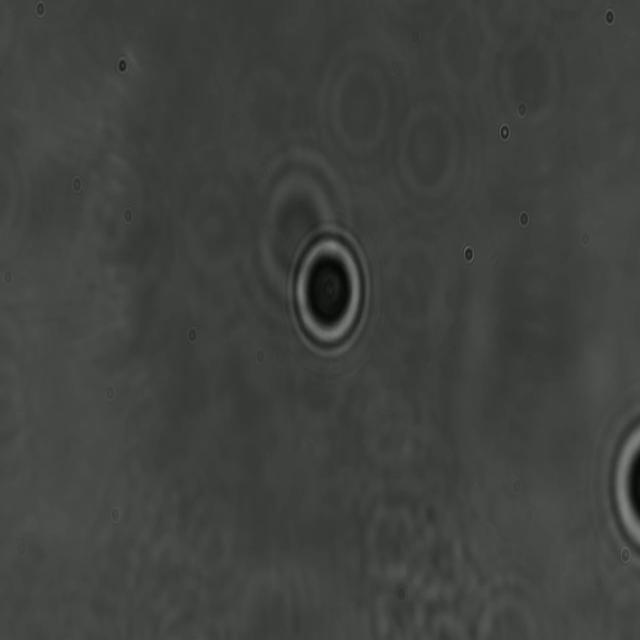DCELL: (286, 213, 372, 368)
